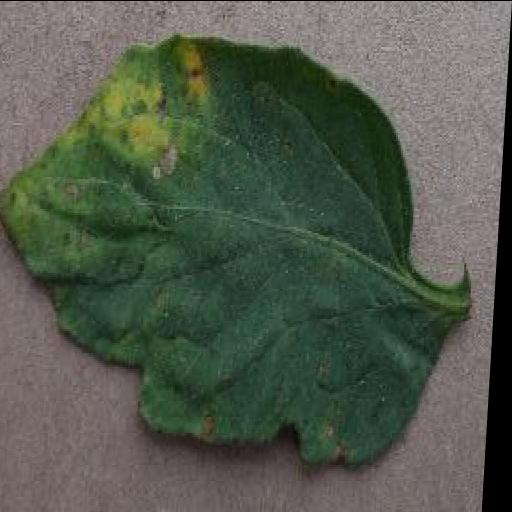Bacterial Spot: (0, 25, 480, 478)
